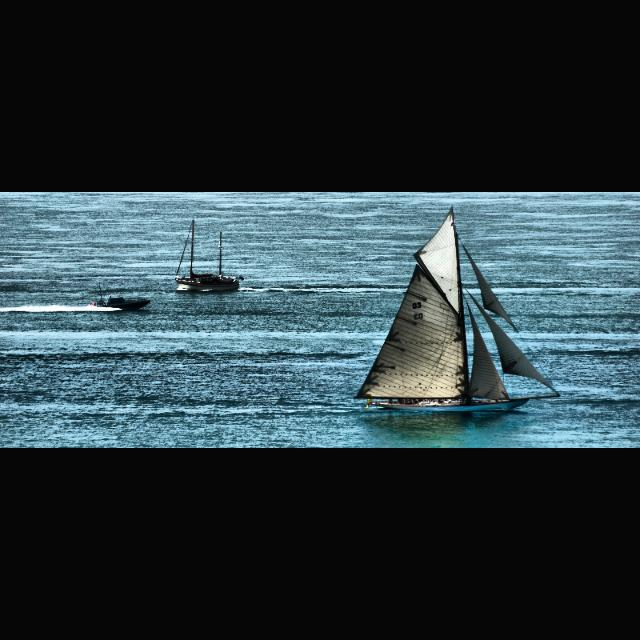sailing_vessel: (354, 207, 560, 413), (173, 218, 244, 292)
